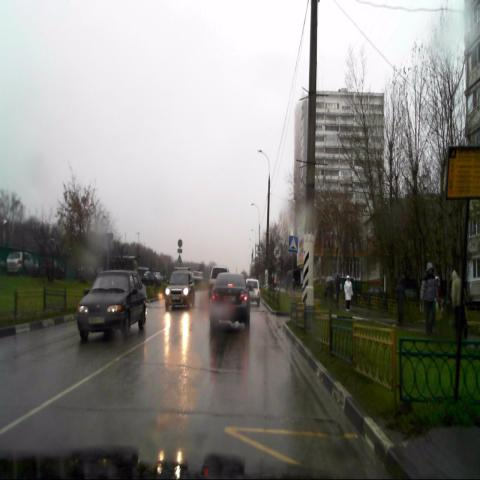3_25: (274, 246, 281, 259)
5_20: (288, 236, 298, 254)
